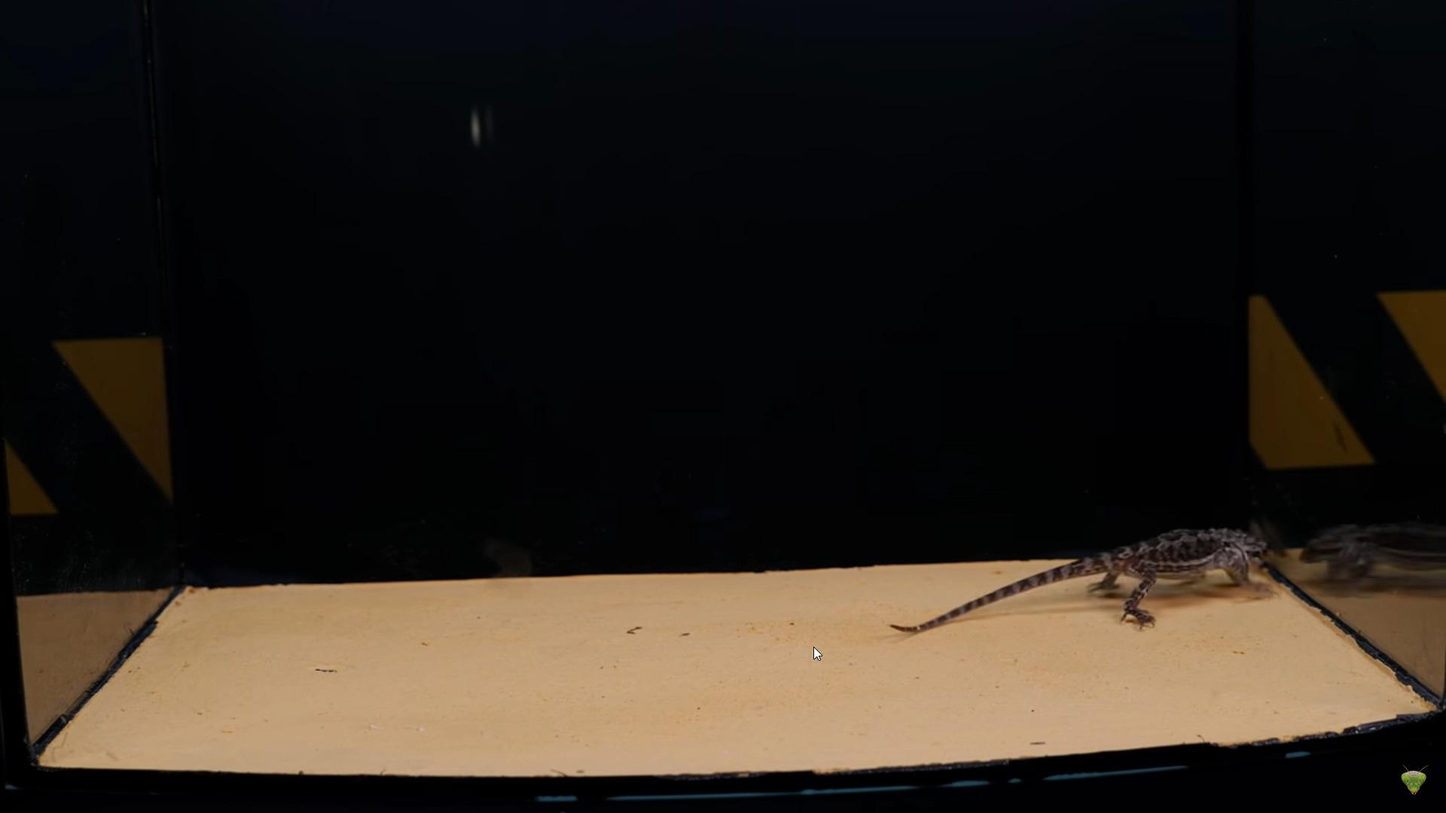lizard: (887, 521, 1281, 631)
